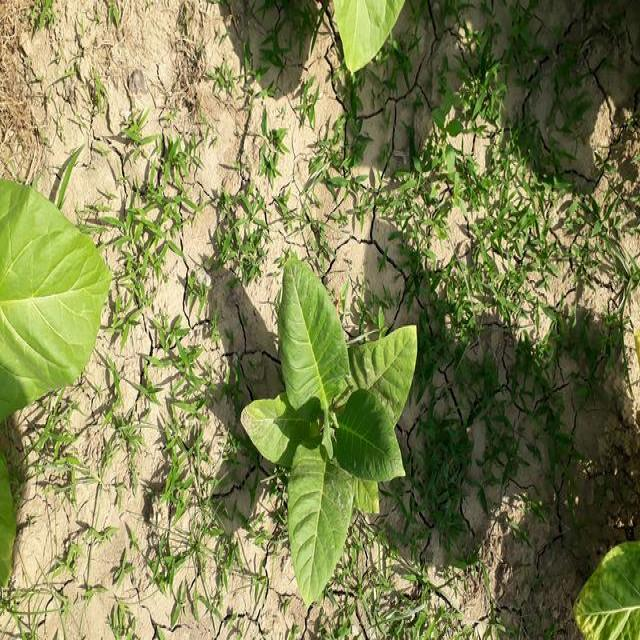crop: (250, 250, 414, 590), (0, 185, 110, 423), (328, 0, 421, 74), (574, 548, 640, 640)
